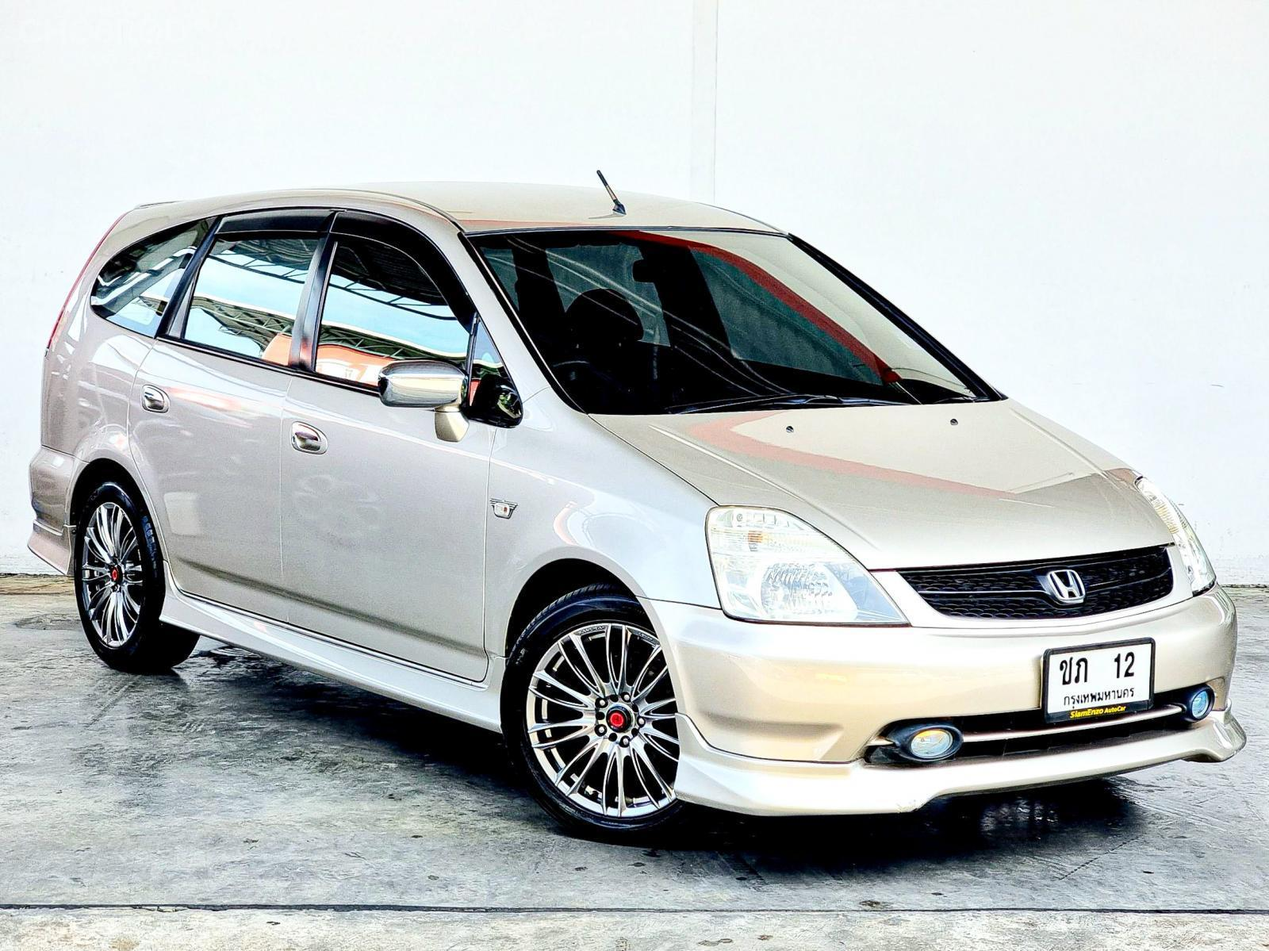license-plate: (1030, 629, 1165, 734)
